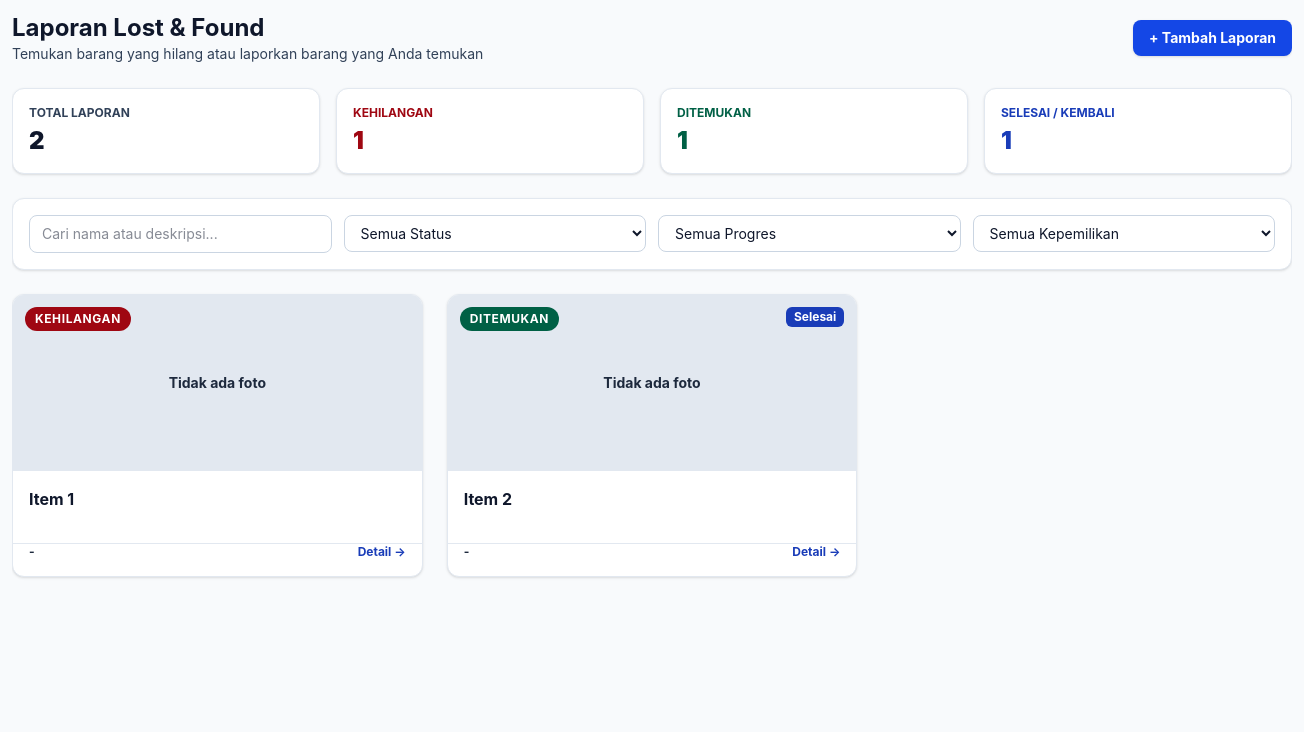
Test: HomePage › should filter items by status, completion, and ownership
The width and height of the screenshot is (1304, 732).
Select "Ditemukan" in the dropdown named "Filter Kategori Status" at {"x": 495, "y": 234}, box [344,215,646,252]
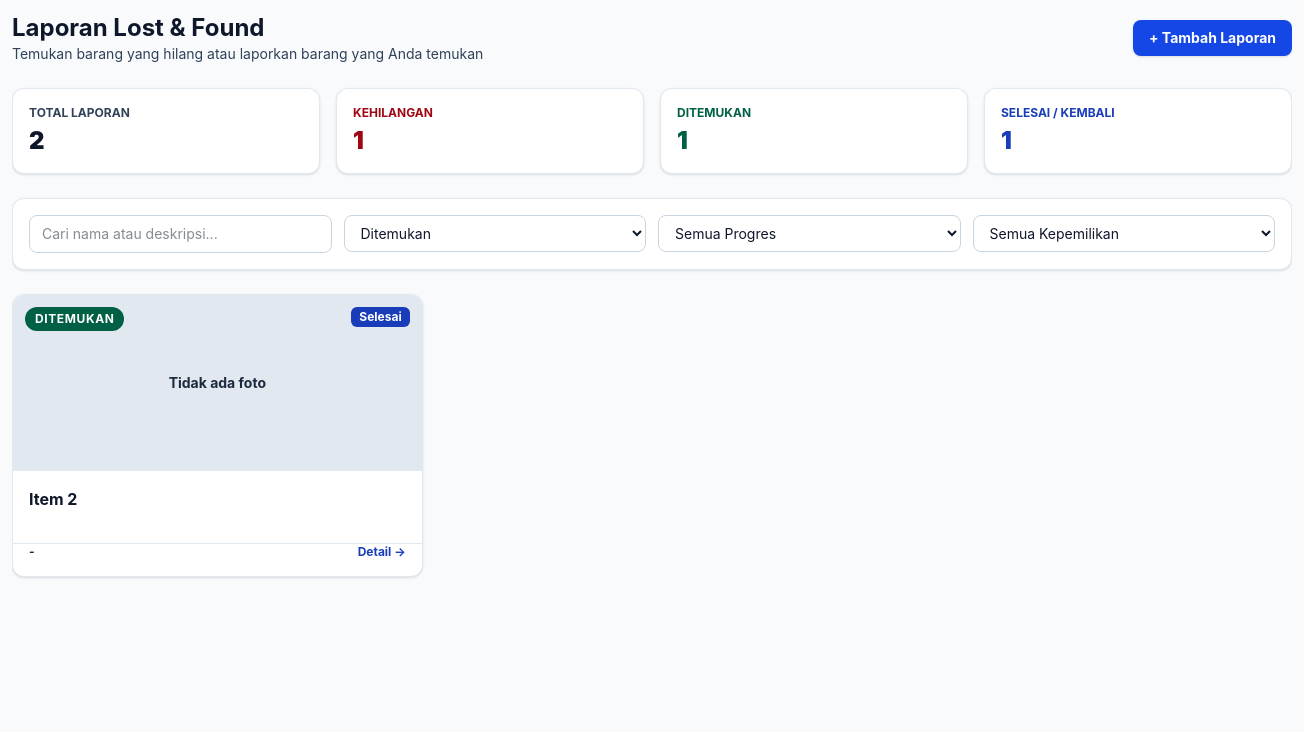
Expected: the heading "Item 2" is shown, [29,489,77,509]
Expected: the heading "Item 1" is gone
# Reset status filter, test completed filter
Select "Semua Status" in the dropdown named "Filter Kategori Status" at {"x": 495, "y": 234}, box [344,215,646,252]
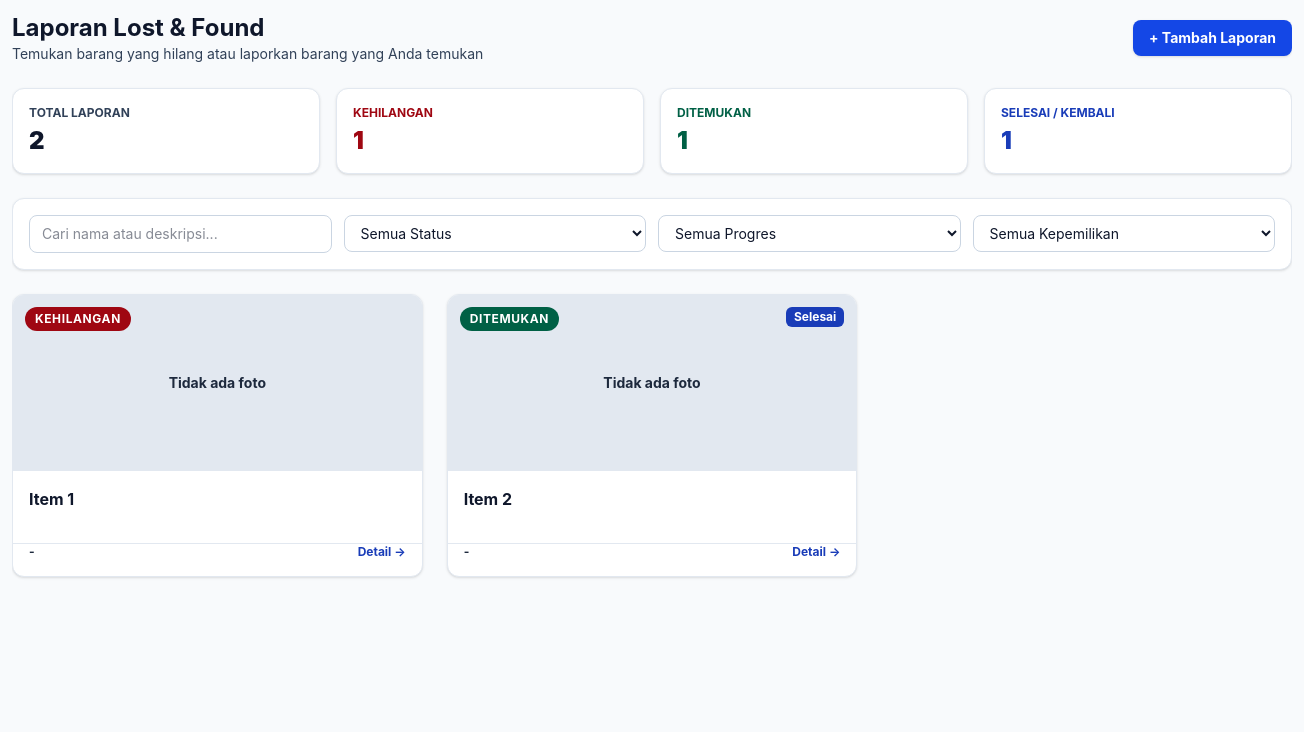
Select "Dalam Proses" in the dropdown named "Filter Progres Penyelesaian" at {"x": 809, "y": 234}, box [658,215,960,252]
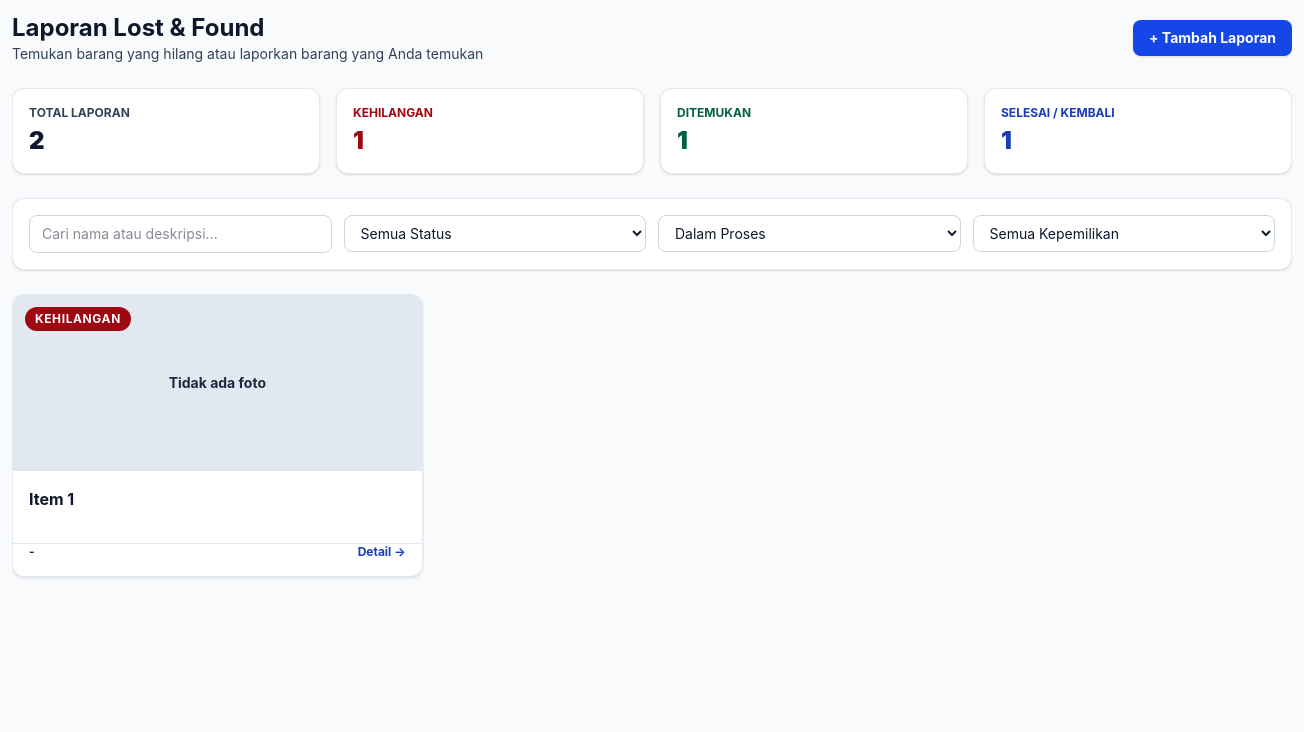
Expected: the heading "Item 1" is shown, [29,489,74,509]
Expected: the heading "Item 2" is gone
# Reset completed filter, test is_me filter
Select "Semua Progres" in the dropdown named "Filter Progres Penyelesaian" at {"x": 809, "y": 234}, box [658,215,960,252]
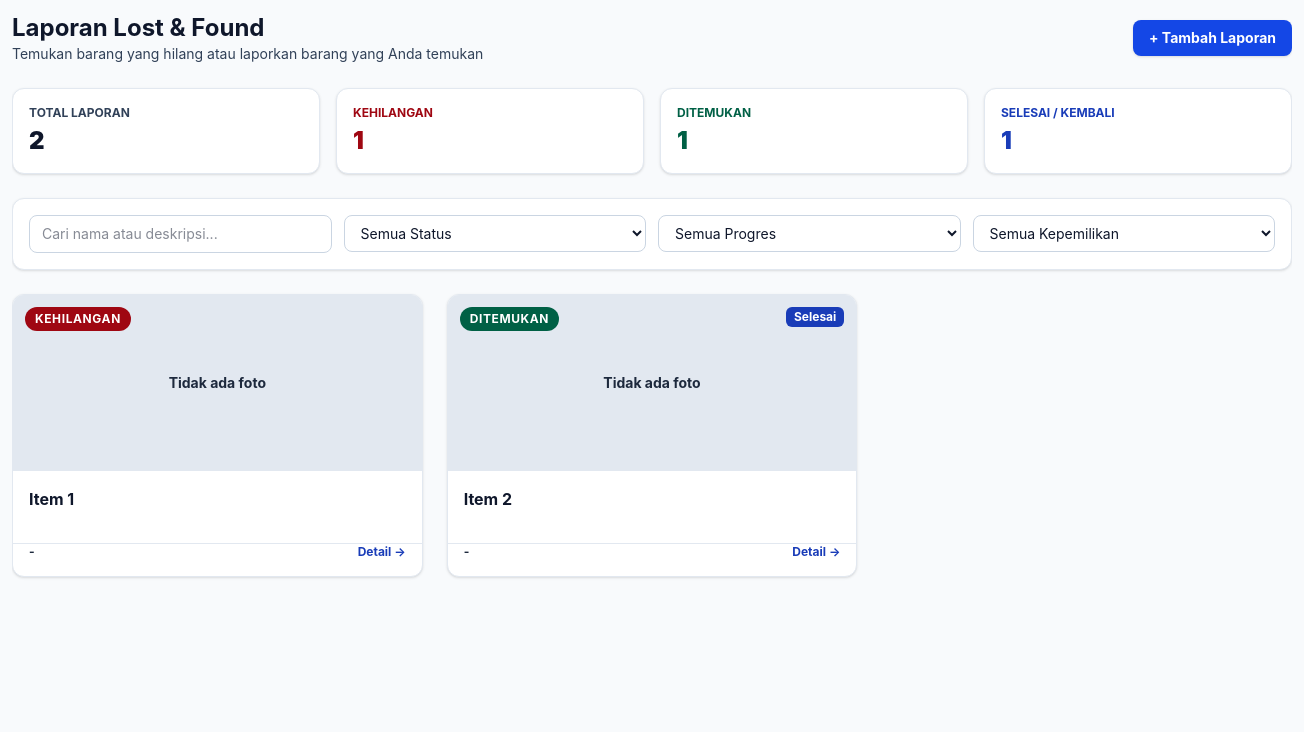
Select "Laporan Saya" in the dropdown named "Filter Kepemilikan Laporan" at {"x": 1124, "y": 234}, box [972,215,1275,252]
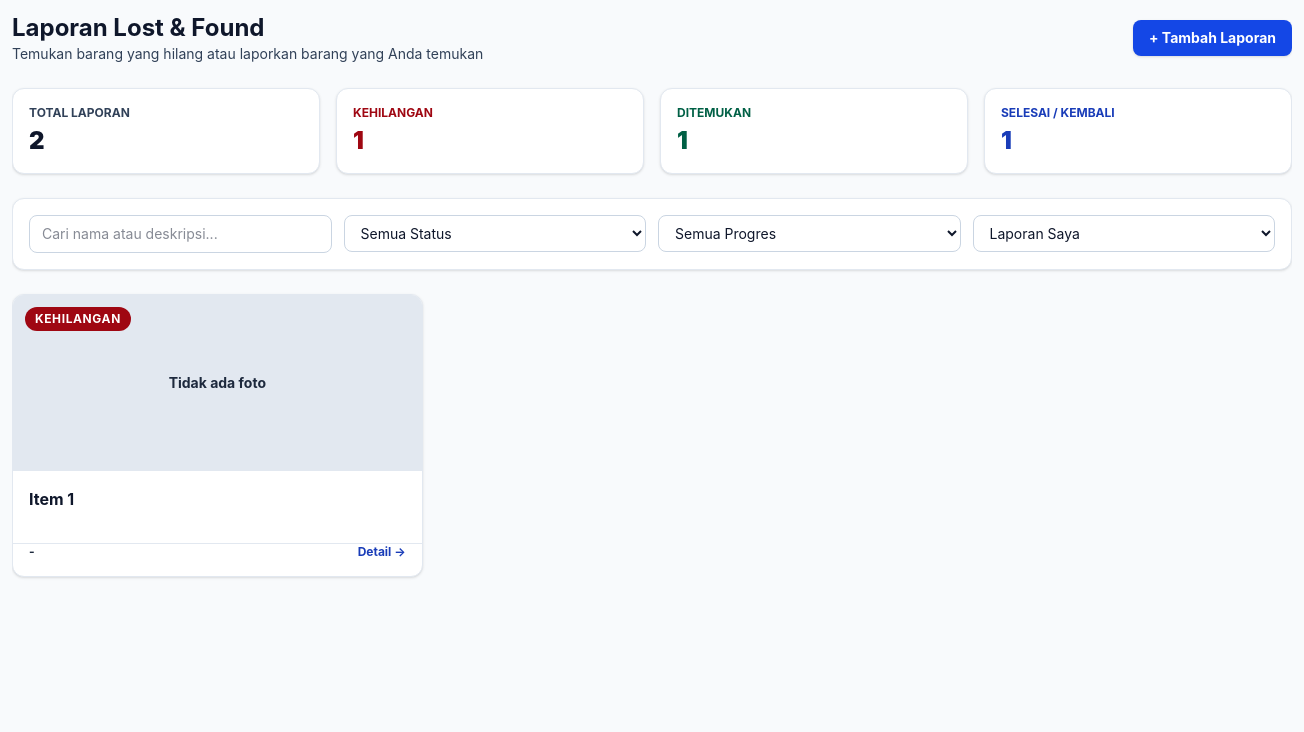
Expected: the heading "Item 1" is shown, [29,489,74,509]
Expected: the heading "Item 2" is gone
# isMe filter false
Select "Laporan Lain" in the dropdown named "Filter Kepemilikan Laporan" at {"x": 1124, "y": 234}, box [972,215,1275,252]
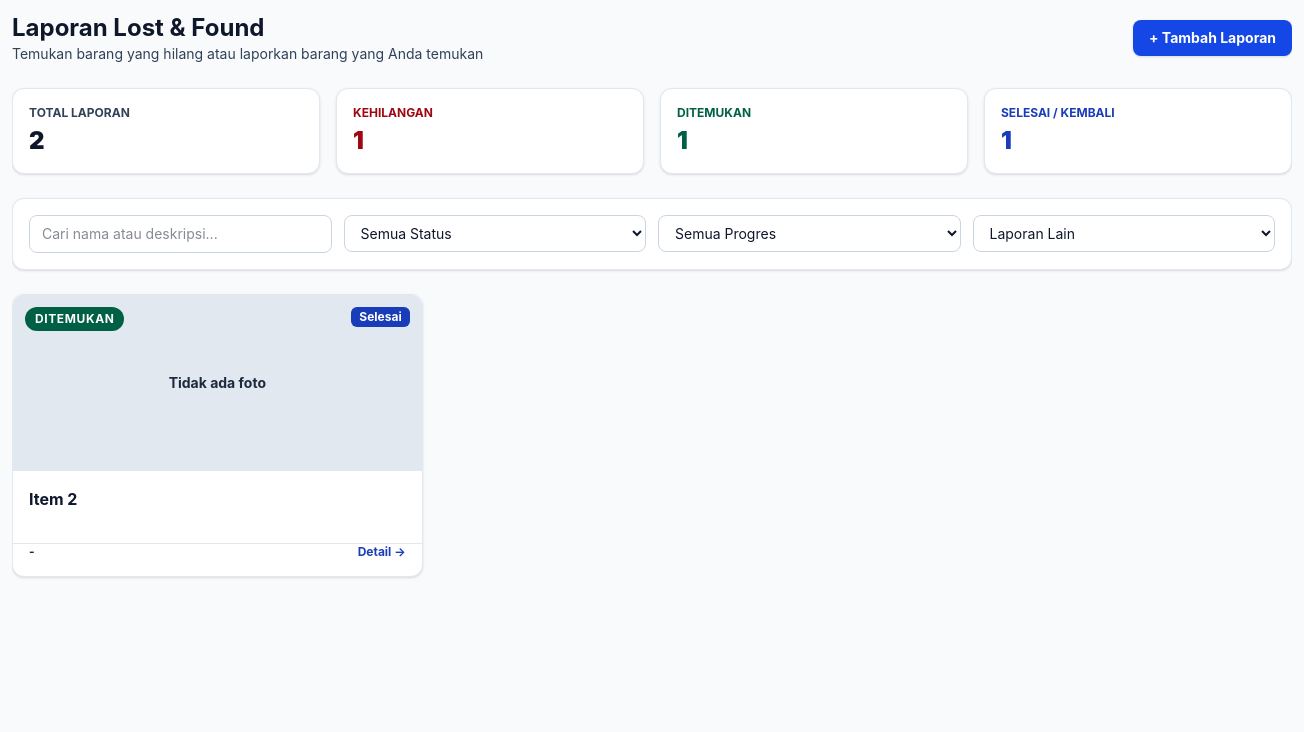
Expected: the heading "Item 1" is gone
Expected: the heading "Item 2" is shown, [29,489,77,509]
